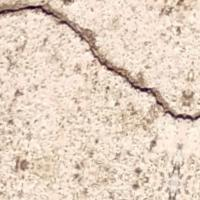crack: (2, 0, 199, 122)
